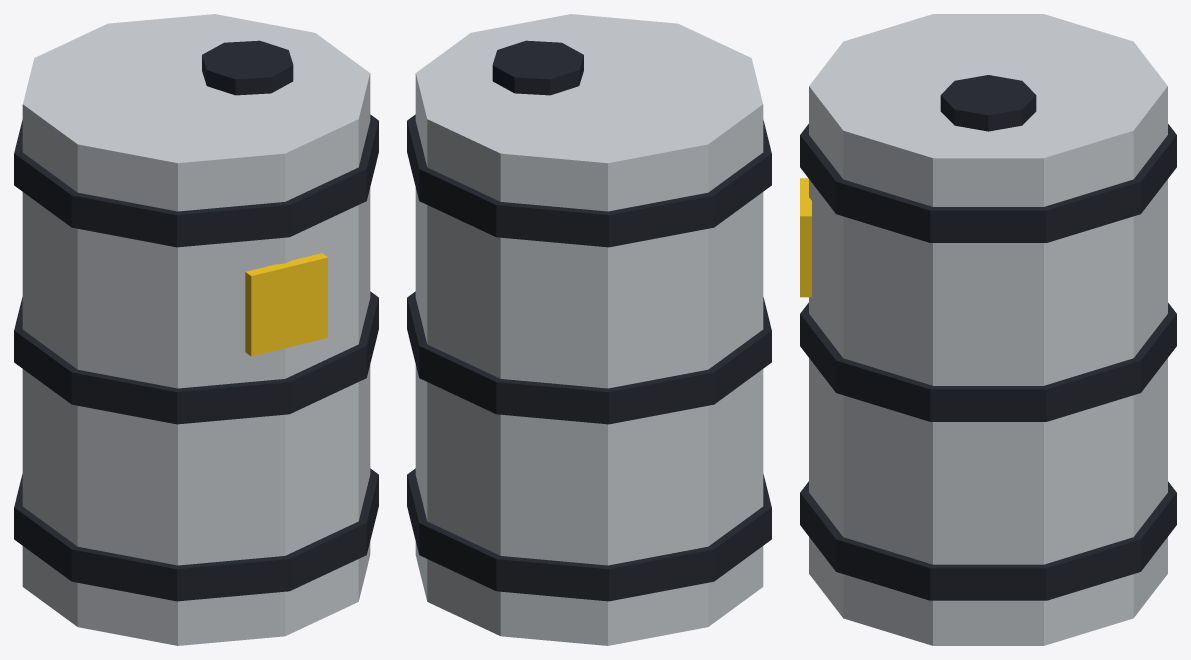
The model's file is barrel.glb.
3 views of the same model, side by side, from view 1: azimuth 30°, elevation 25°; view 2: azimuth 150°, elevation 25°; view 3: azimuth 270°, elevation 25° (orthographic).
Visible parts, largest first — view 1: barrel; view 2: barrel; view 3: barrel.
Boxes of the visible parts, x1,y1,x2,y2 form: barrel: (14, 14, 378, 645); barrel: (407, 14, 771, 645); barrel: (800, 14, 1176, 645).
Bounding box in the file's own units: 0.5992 × 0.93 × 0.63.
